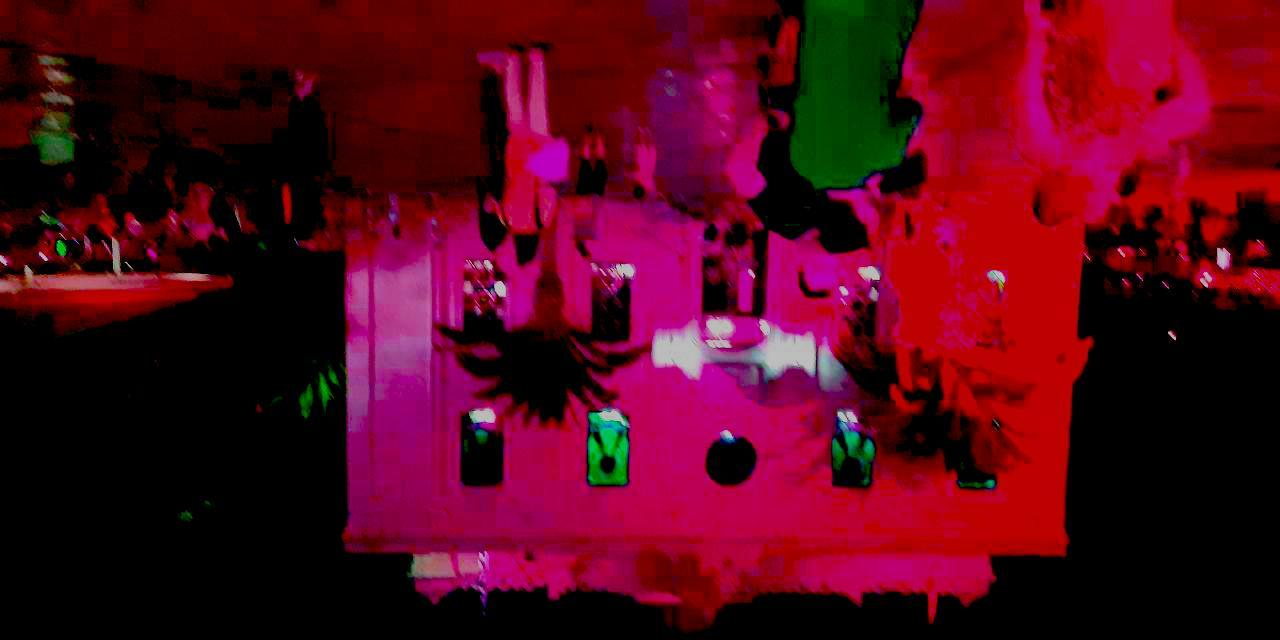Agios Titos: (198, 33, 943, 452)
